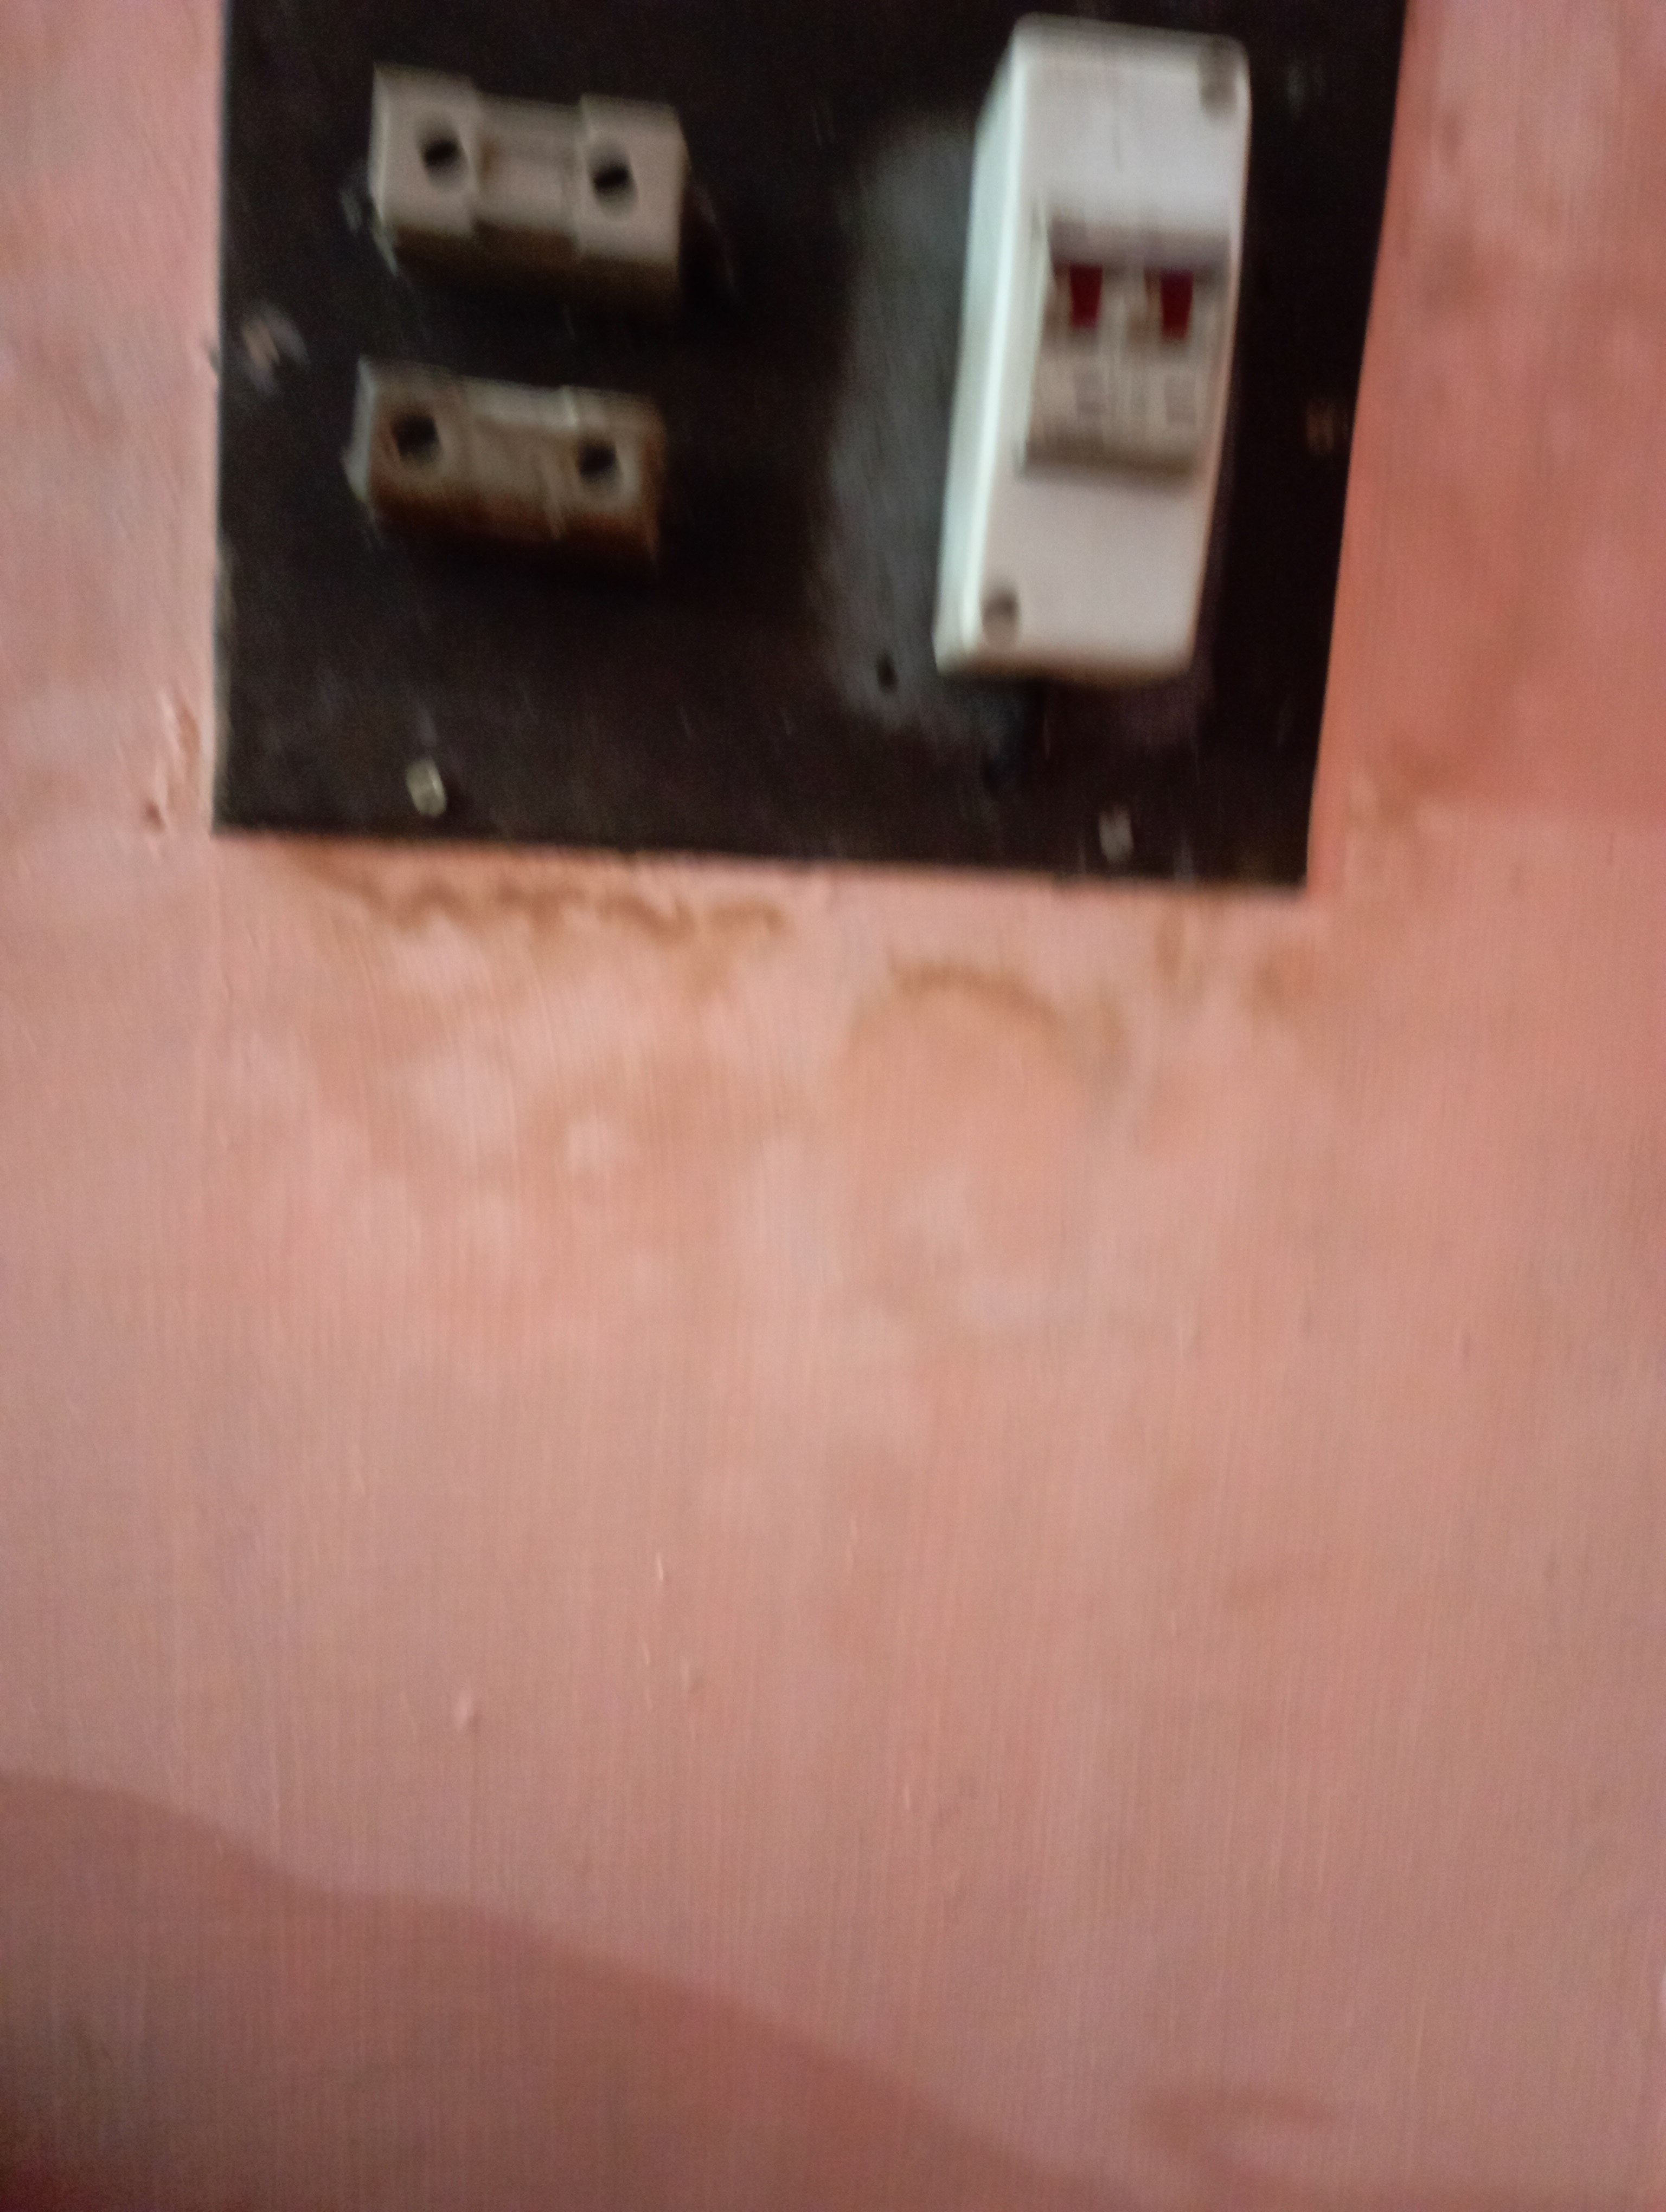ciruit_breaker: (947, 23, 1234, 696)
fuse: (343, 66, 705, 287), (343, 336, 661, 582)
